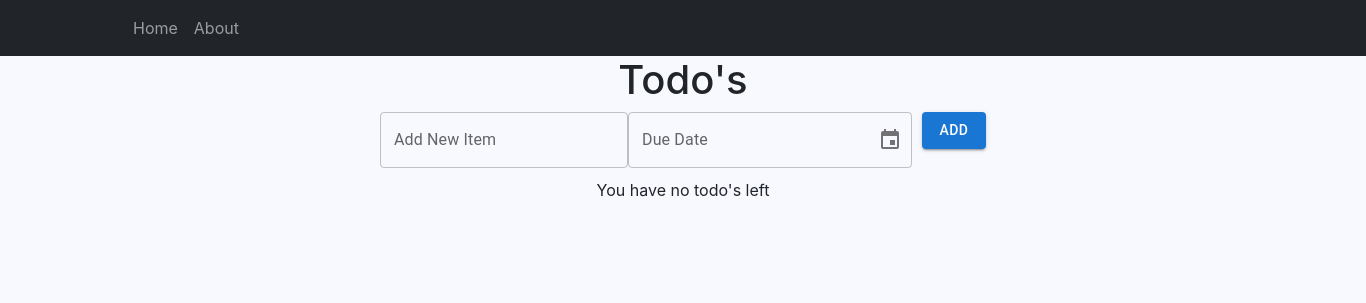
test that App component doesn't add a task without due date
The width and height of the screenshot is (1366, 303).
Type "first task" into the field labelled "Add New Item". click: {"x": 504, "y": 140}
box: [380, 112, 628, 168]
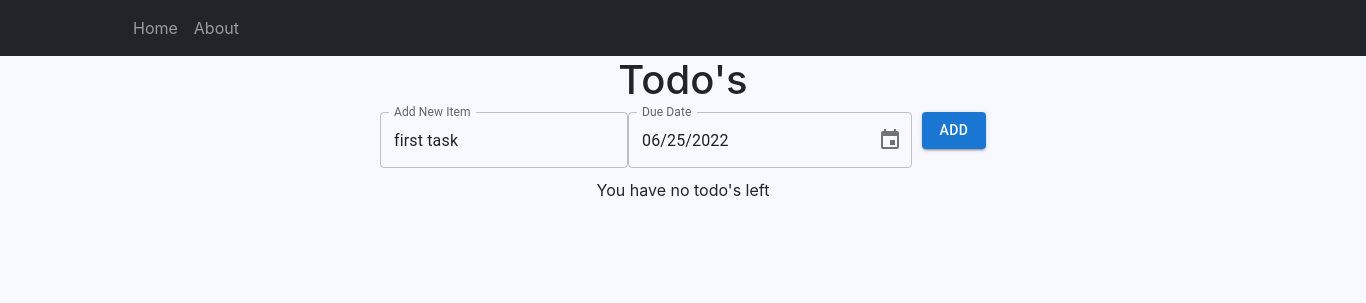
Click the button "Add". click: {"x": 954, "y": 130}
box: [922, 112, 986, 148]
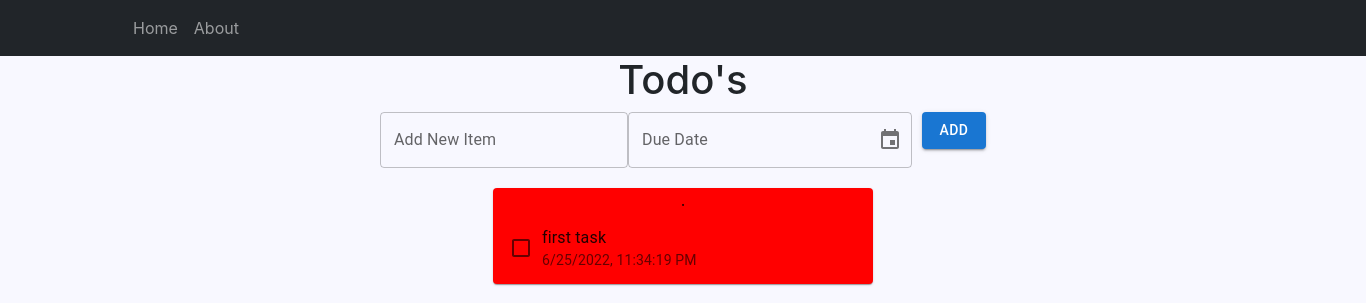
expect the text "first task" is shown: met, box [542, 228, 606, 247]
